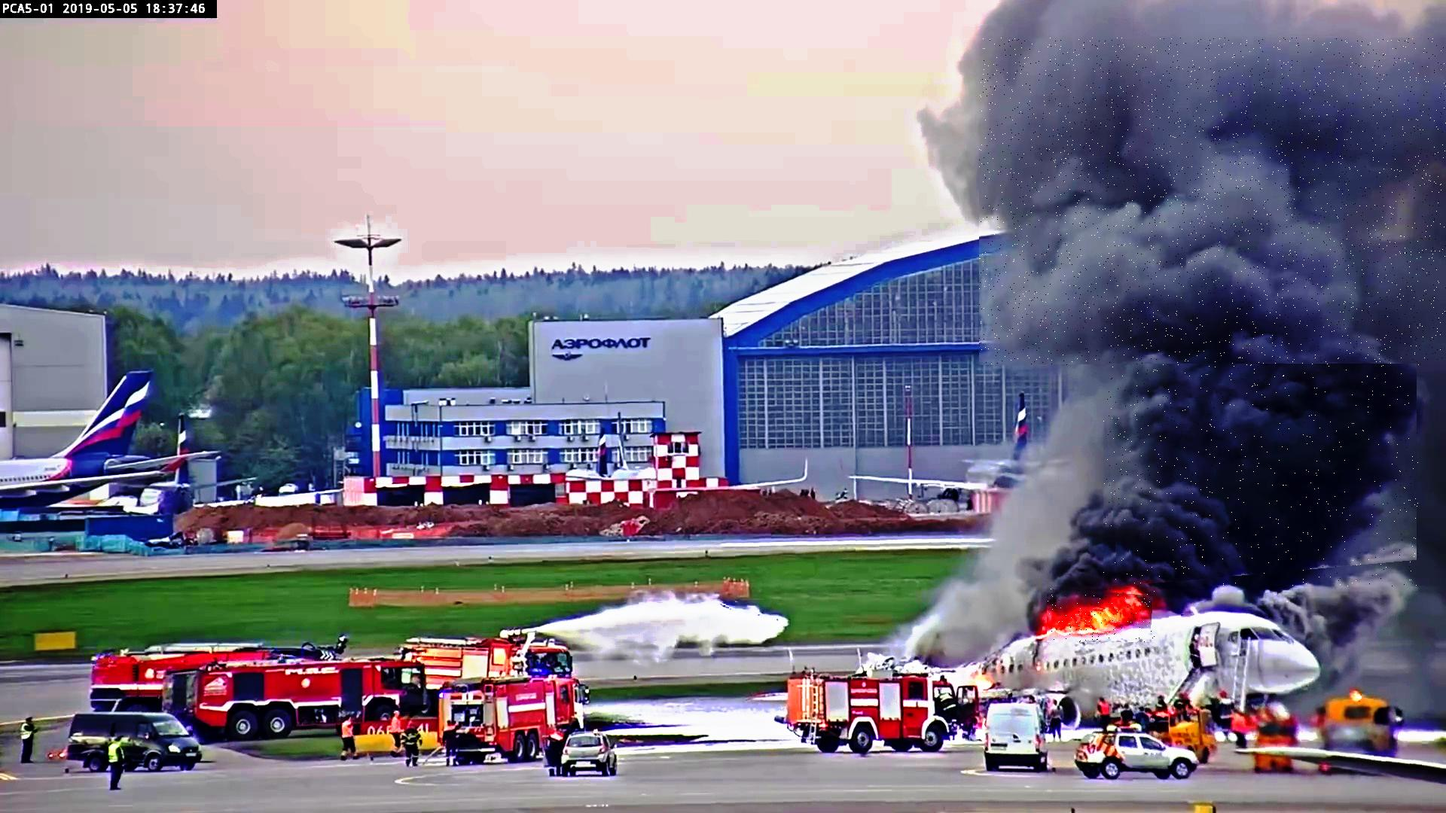fire: (1047, 587, 1155, 642)
smoke: (979, 38, 1446, 365), (1104, 364, 1419, 587)
